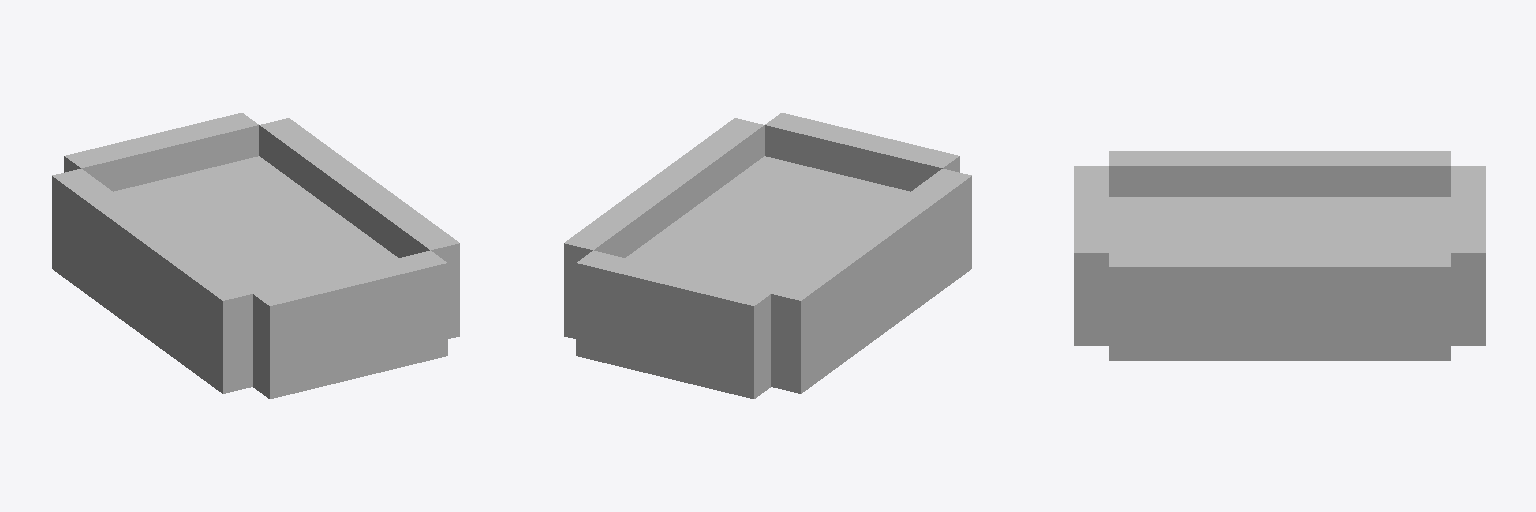
The model's file is cooking_baking_sheet_fill.obj.
3 views of the same model, side by side, from view 1: azimuth 30°, elevation 25°; view 2: azimuth 150°, elevation 25°; view 3: azimuth 270°, elevation 25° (orthographic).
Visible parts, largest first — view 1: node_0_0_0.001, node_0_0_0.003; view 2: node_0_0_0.001, node_0_0_0.003; view 3: node_0_0_0.001, node_0_0_0.003.
Boxes of the visible parts, x1=… form: node_0_0_0.001: x1=52, y1=113, x2=459, y2=398; node_0_0_0.003: x1=114, y1=156, x2=397, y2=293; node_0_0_0.001: x1=564, y1=113, x2=971, y2=398; node_0_0_0.003: x1=626, y1=156, x2=909, y2=293; node_0_0_0.001: x1=1074, y1=151, x2=1485, y2=360; node_0_0_0.003: x1=1109, y1=197, x2=1450, y2=252.
Bounding box in the file's own units: 0.5 × 0.1875 × 0.75.